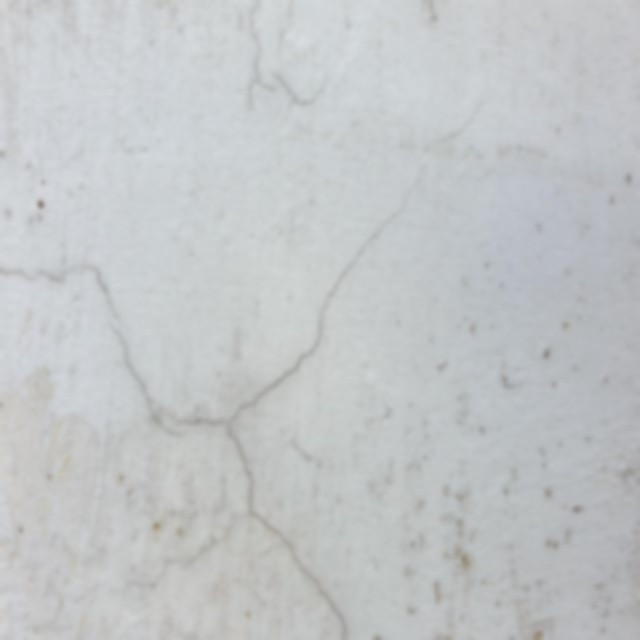SurfaceCrack: (1, 1, 575, 504)
